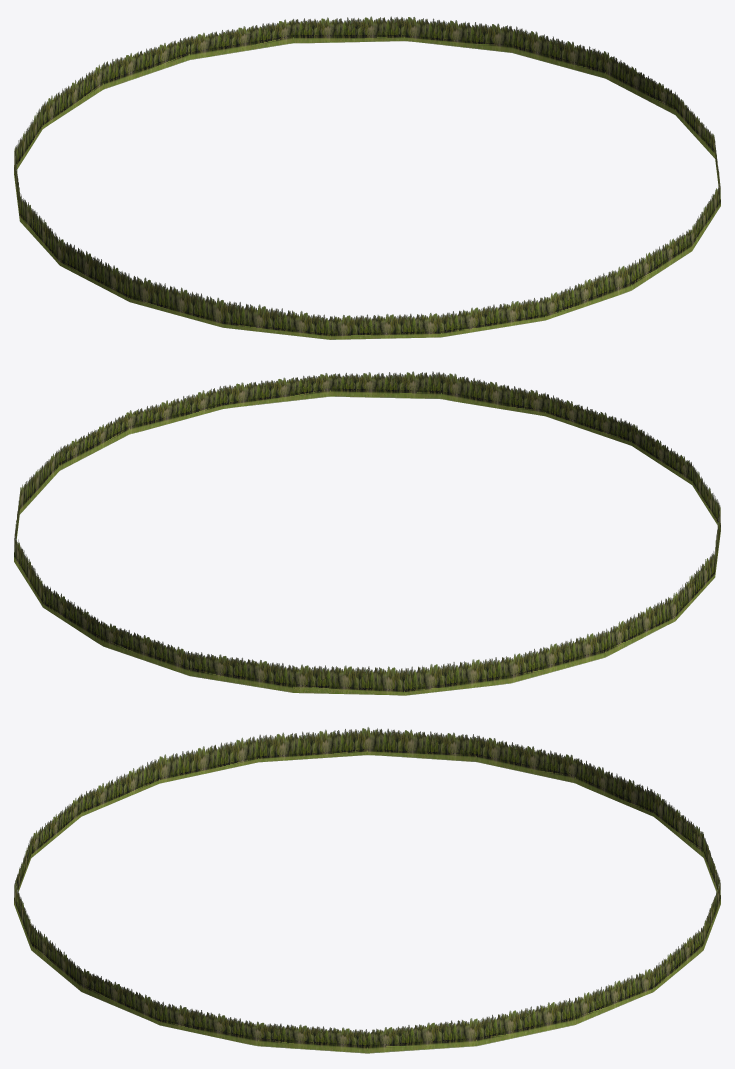
Rendered from forest_background.fbx.
The picture shows the model from 3 angles, top to bottom: view 1: azimuth 30°, elevation 25°; view 2: azimuth 150°, elevation 25°; view 3: azimuth 270°, elevation 25°; orthographic projection.
Visible parts, largest first — view 1: pSphere1; view 2: pSphere1; view 3: pSphere1.
Boxes of the visible parts, bbox=[...] form: pSphere1: bbox=[14, 16, 720, 339]; pSphere1: bbox=[14, 371, 720, 695]; pSphere1: bbox=[14, 727, 720, 1053].
Size of the model in its own units: 1407 by 67.78 by 1407.
1 material, 1 textured.
